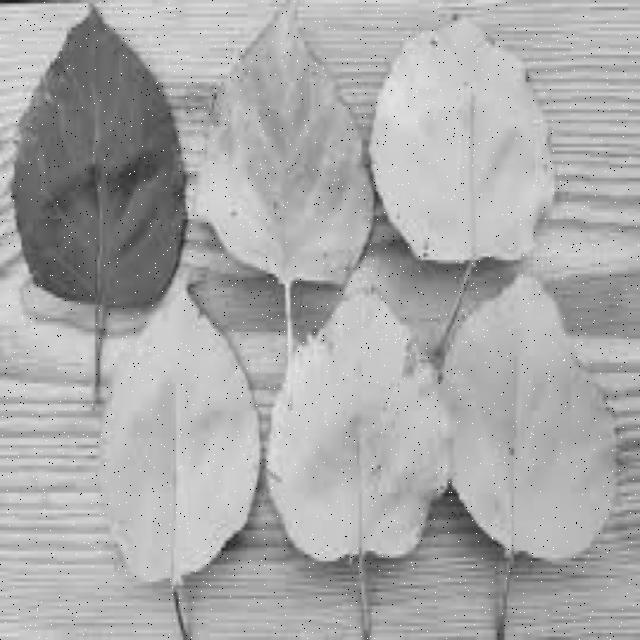Kayisi Yapragi: (11, 3, 188, 404), (265, 291, 448, 636), (99, 291, 258, 640)
